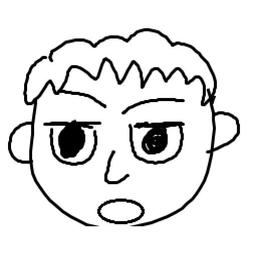ear: (4, 120, 36, 168), (213, 109, 243, 150)
eye: (126, 118, 187, 167), (42, 120, 99, 167)
eyebrow: (120, 91, 186, 115)
frowning_eyebrow: (57, 88, 109, 111)
nose: (102, 148, 130, 187)
open_mouth: (94, 195, 147, 225)
